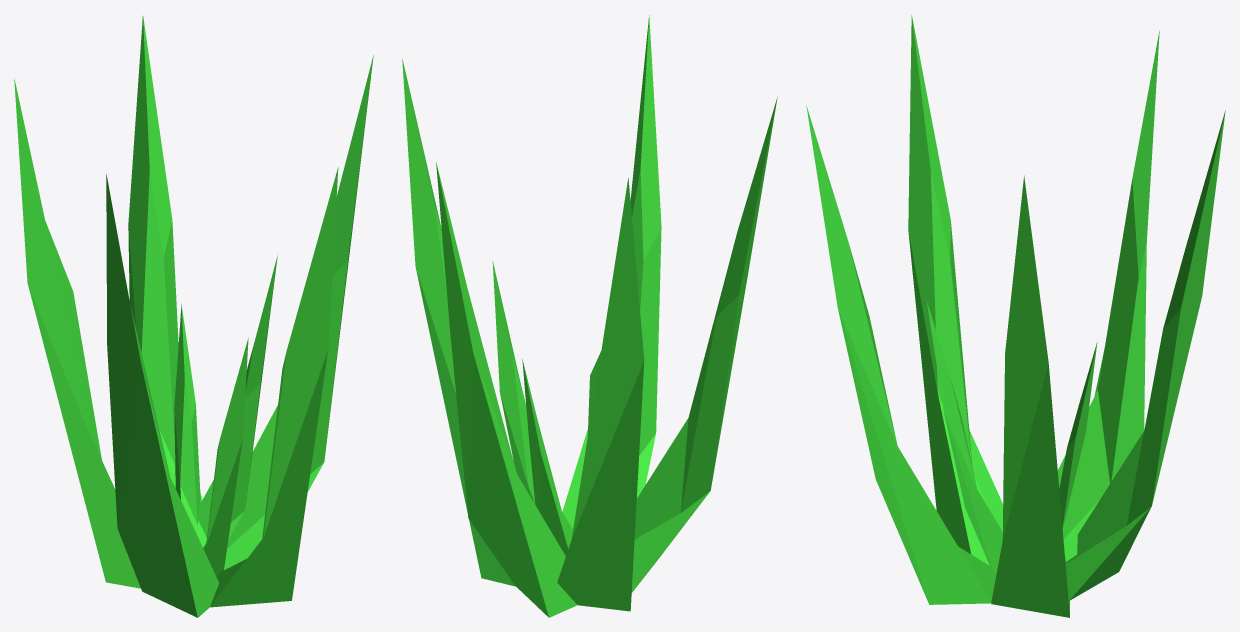
Rendered from grassyplant.FBX.
The picture shows the model from 3 angles, left to right: view 1: azimuth 30°, elevation 25°; view 2: azimuth 150°, elevation 25°; view 3: azimuth 270°, elevation 25°; orthographic projection. The views are drawn at different scales.
Parts seen in each view (by area): view 1: Box003, Box002, Box004, Box005, Box001, Box006, Box007, Box008; view 2: Box004, Box005, Box003, Box002, Box001, Box008, Box007; view 3: Box001, Box003, Box002, Box004, Box005, Box006, Box007.
Boxes of the visible parts, left/top/right/bottom form: Box003: left=106, top=174, right=218, bottom=617; Box002: left=210, top=167, right=338, bottom=607; Box004: left=14, top=78, right=140, bottom=588; Box005: left=128, top=15, right=202, bottom=501; Box001: left=224, top=55, right=373, bottom=569; Box006: left=203, top=337, right=248, bottom=575; Box007: left=174, top=304, right=206, bottom=547; Box008: left=198, top=254, right=277, bottom=544; Box004: left=557, top=177, right=644, bottom=611; Box005: left=436, top=162, right=577, bottom=617; Box003: left=631, top=97, right=777, bottom=592; Box002: left=562, top=15, right=661, bottom=529; Box001: left=402, top=59, right=515, bottom=586; Box008: left=492, top=261, right=535, bottom=504; Box007: left=522, top=359, right=572, bottom=555; Box001: left=991, top=175, right=1069, bottom=617; Box003: left=908, top=15, right=1003, bottom=565; Box002: left=806, top=105, right=996, bottom=604; Box004: left=1057, top=30, right=1159, bottom=561; Box005: left=1066, top=110, right=1225, bottom=600; Box006: left=927, top=302, right=1002, bottom=574; Box007: left=1059, top=342, right=1097, bottom=528.
Bounding box in the file's own units: 0.3134 × 0.4488 × 0.3448.
